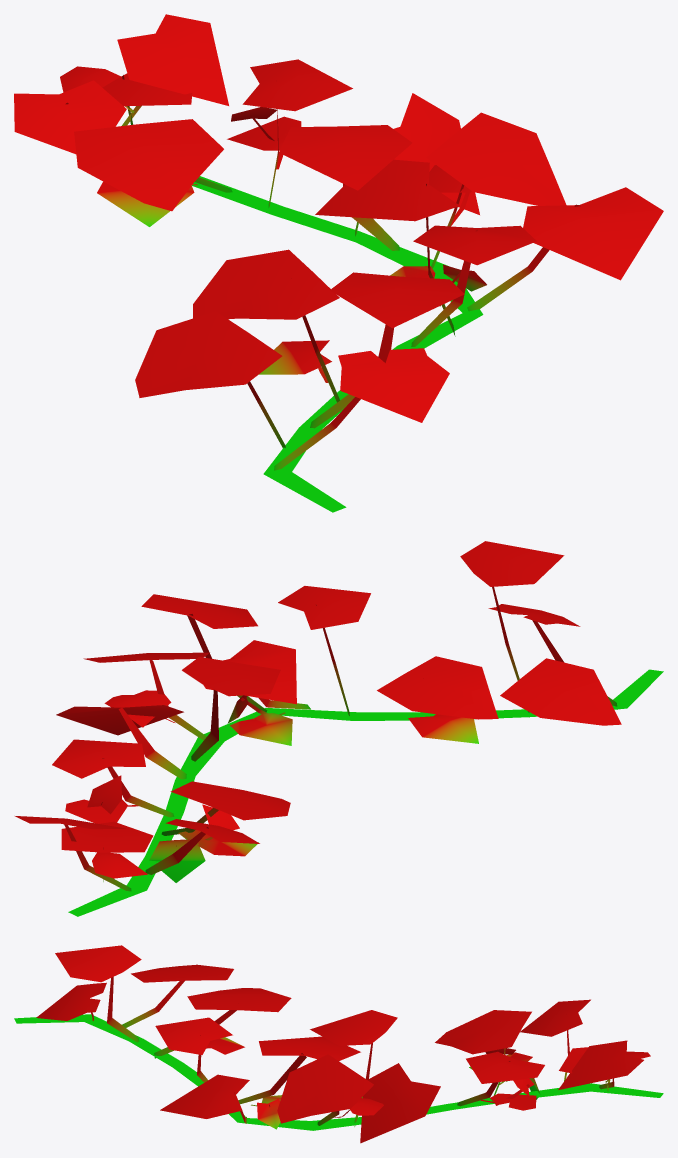
The model's file is Var8_LOD3.fbx.
3 views of the same model, one above another, from view 1: azimuth 30°, elevation 25°; view 2: azimuth 150°, elevation 25°; view 3: azimuth 270°, elevation 25° (orthographic). The views are drawn at different scales.
Visible parts, largest first — view 1: _fhzj_Var8_LOD3; view 2: _fhzj_Var8_LOD3; view 3: _fhzj_Var8_LOD3.
Boxes of the visible parts, x1,y1,x2,y2 form: _fhzj_Var8_LOD3: [14, 14, 663, 512]; _fhzj_Var8_LOD3: [15, 541, 663, 916]; _fhzj_Var8_LOD3: [14, 945, 663, 1143].
Size of the model in its own units: 38.3 by 11.56 by 58.51.
